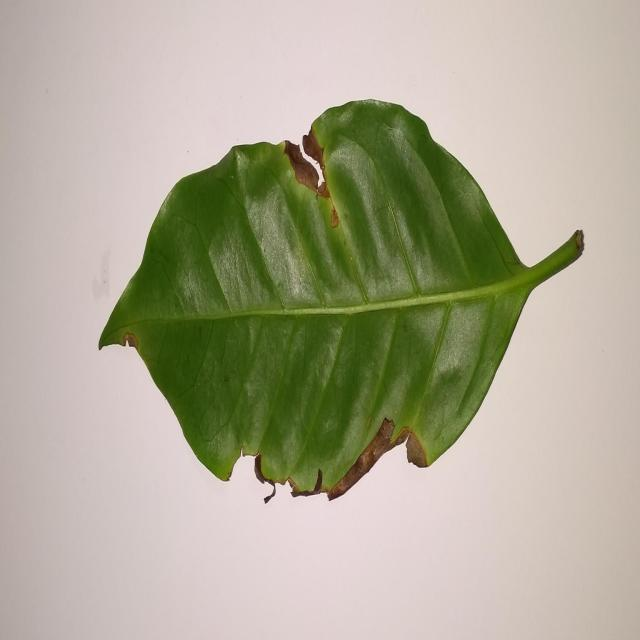Enfermedad-Antracnosis: (97, 99, 586, 503)
